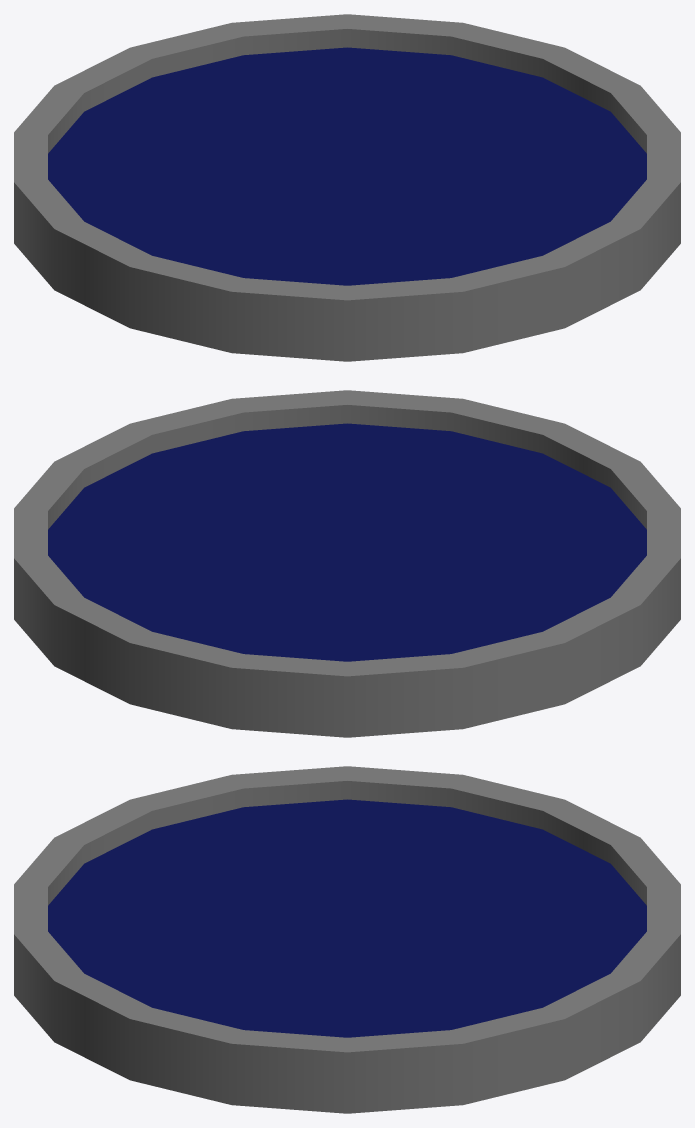
Rendered from Platform 3.fbx.
3 renders of one model, top to bottom at view 1: azimuth 30°, elevation 25°; view 2: azimuth 150°, elevation 25°; view 3: azimuth 270°, elevation 25°, orthographic.
Parts seen in each view (by area): view 1: Cylinder001; view 2: Cylinder001; view 3: Cylinder001.
Boxes of the visible parts, x1,y1,x2,y2 form: Cylinder001: [14, 14, 680, 361]; Cylinder001: [14, 390, 680, 737]; Cylinder001: [14, 766, 680, 1113].
Size of the model in its own units: 19.69 by 19.39 by 1.97.
